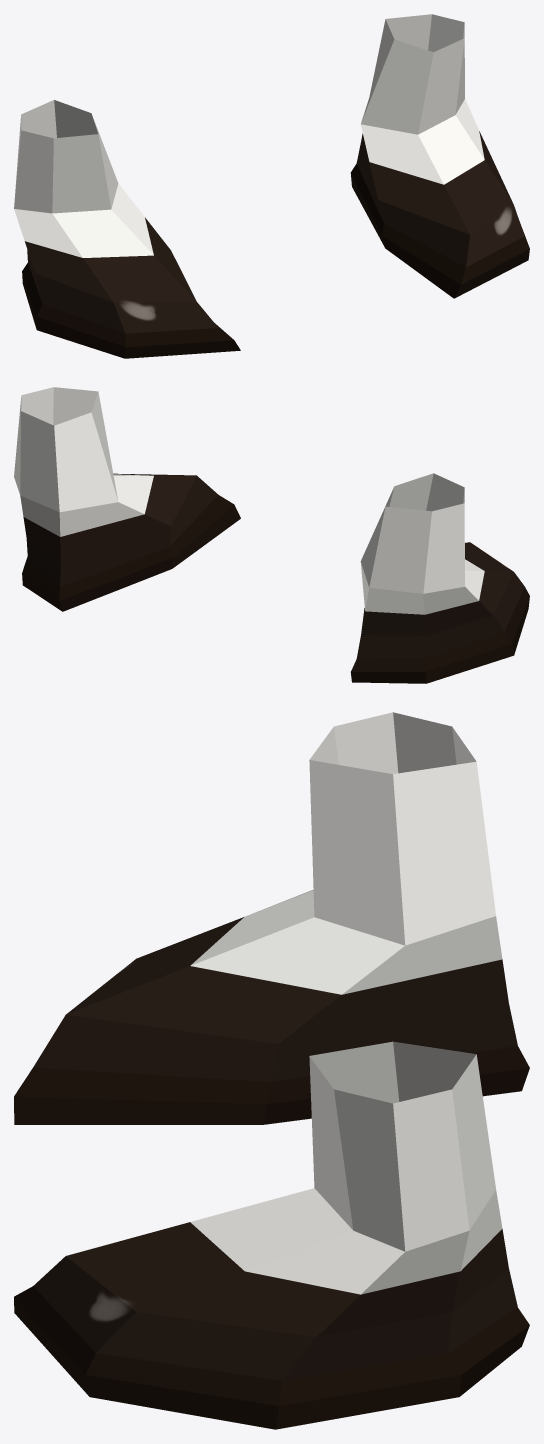
The model's file is shoes.fbx.
3 renders of one model, top to bottom at view 1: azimuth 30°, elevation 25°; view 2: azimuth 150°, elevation 25°; view 3: azimuth 270°, elevation 25°, orthographic. The views are drawn at different scales.
Parts seen in each view (by area): view 1: Shoes; view 2: Shoes; view 3: Shoes.
Boxes of the visible parts, left/top/right/bottom form: Shoes: left=14, top=14, right=529, bottom=358; Shoes: left=14, top=387, right=529, bottom=683; Shoes: left=14, top=712, right=529, bottom=1429.
Bounding box in the file's own units: 105 × 36.24 × 54.5.
